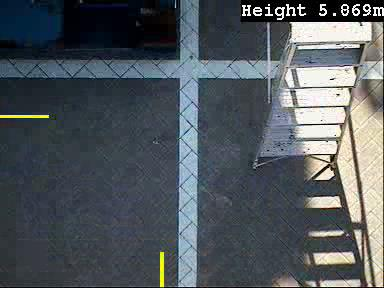groundmarker_2: (205, 64, 248, 112), (204, 238, 246, 286)
